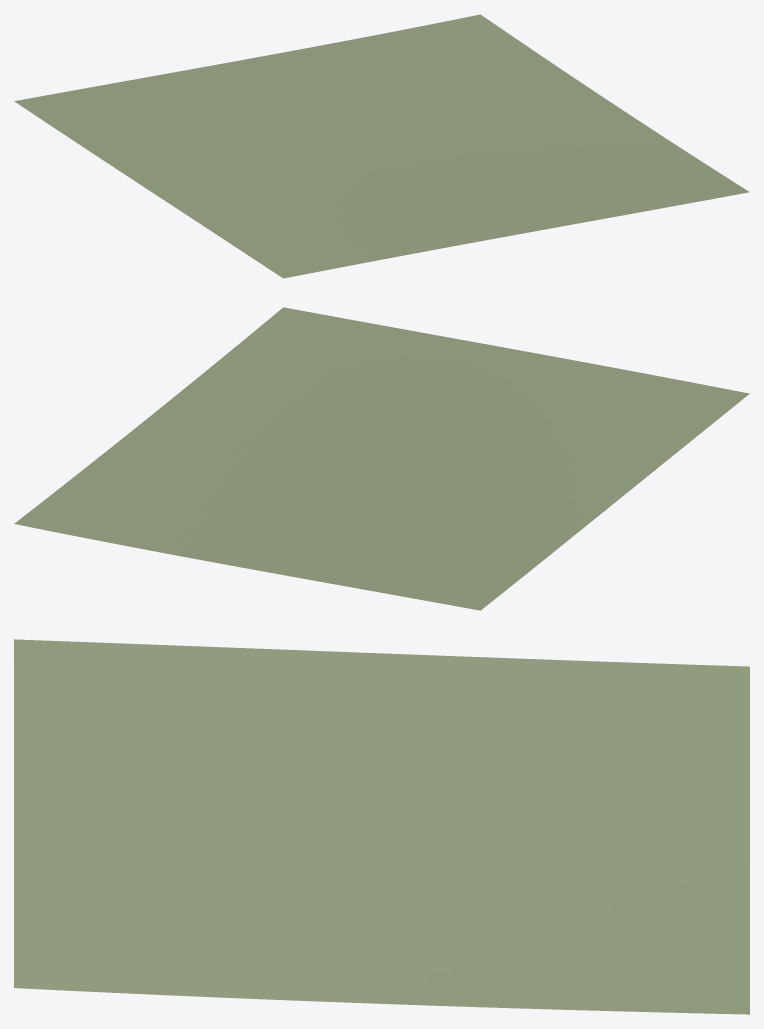
File: desert-2-24.glb
3 views of the same model, one above another, from view 1: azimuth 30°, elevation 25°; view 2: azimuth 150°, elevation 25°; view 3: azimuth 270°, elevation 25° (orthographic). The views are drawn at different scales.
Parts seen in each view (by area): view 1: desert-2-24; view 2: desert-2-24; view 3: desert-2-24.
Part boxes in pixels (x1,y1,x2,y2): desert-2-24: (14,14,749,278); desert-2-24: (14,307,749,610); desert-2-24: (14,639,749,1014).
Size of the model in its own units: 512 by 49.21 by 512.
